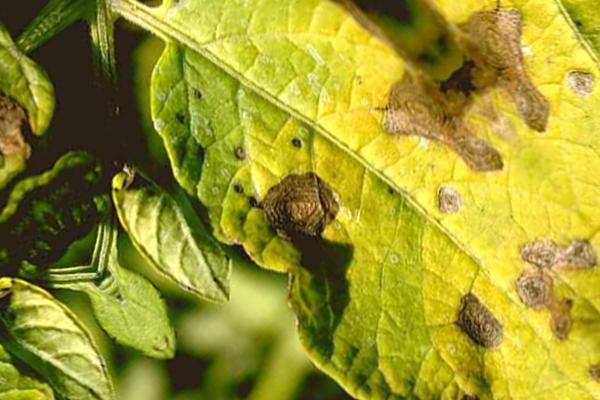Tomato Early blight leaf: (53, 0, 600, 400)
